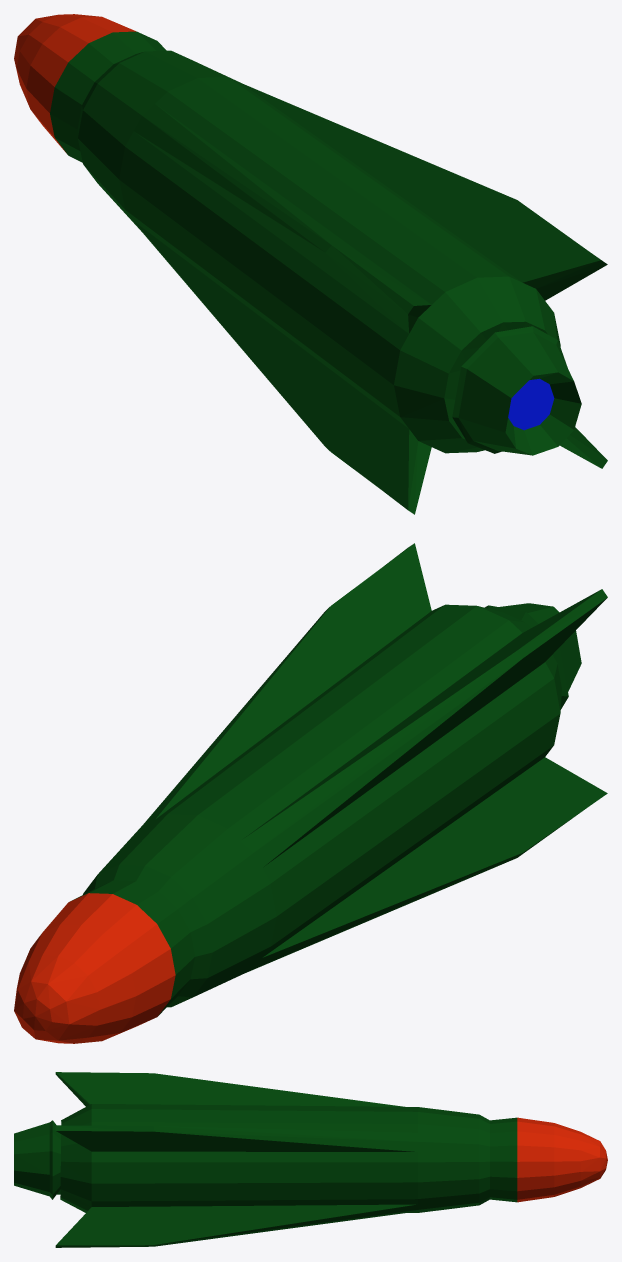
Rendered from Missile.fbx.
3 views of the same model, one above another, from view 1: azimuth 30°, elevation 25°; view 2: azimuth 150°, elevation 25°; view 3: azimuth 270°, elevation 25° (orthographic). The views are drawn at different scales.
Parts seen in each view (by area): view 1: 球; view 2: 球; view 3: 球.
Boxes of the visible parts, left/top/right/bottom form: 球: left=14, top=14, right=607, bottom=514; 球: left=14, top=543, right=607, bottom=1043; 球: left=14, top=1072, right=607, bottom=1247.
Size of the model in its own units: 0.5614 by 0.5614 by 2.47.
